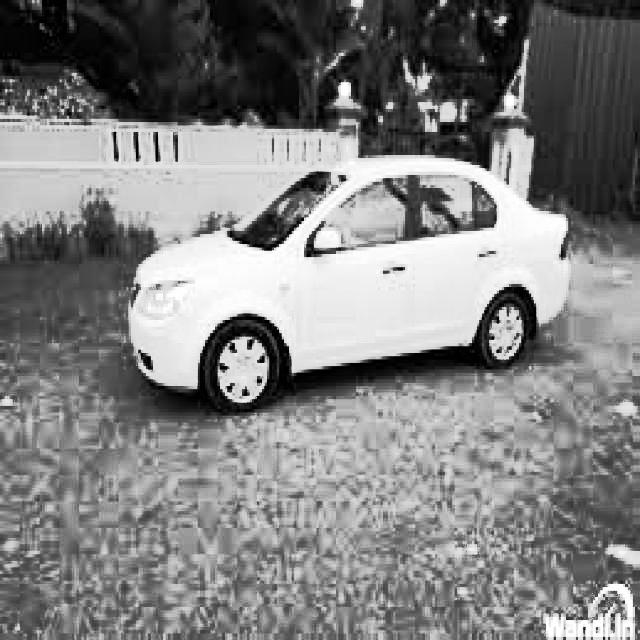Car: (134, 159, 574, 401)
